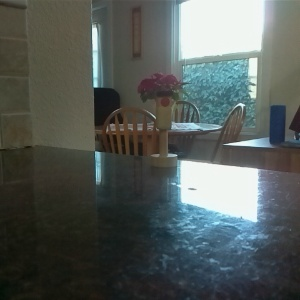traffic light red: (149, 89, 179, 169)
